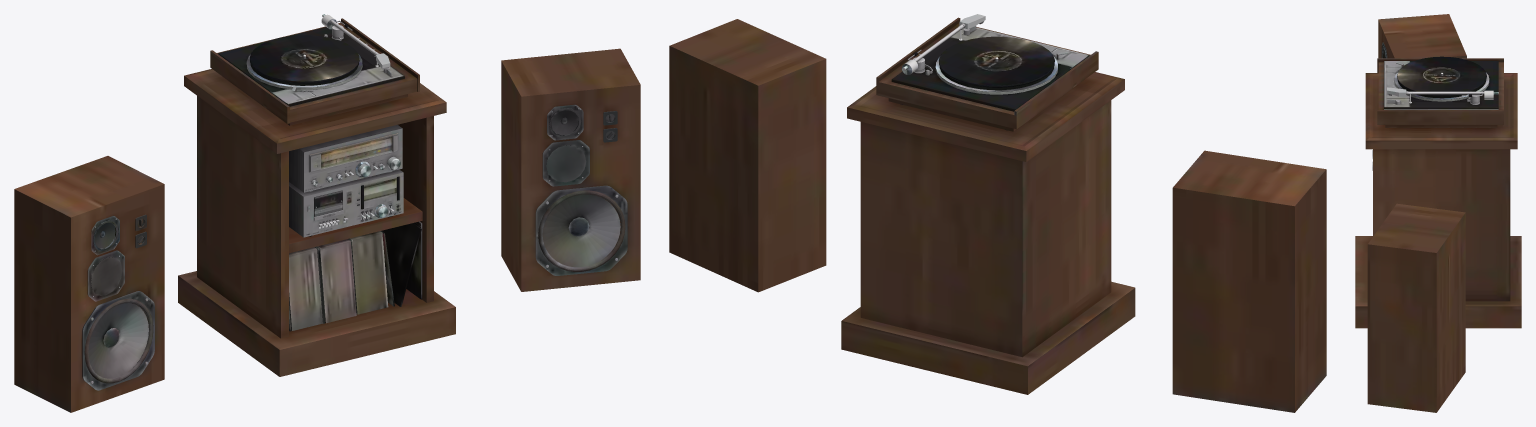
The model's file is origen-vinyl-cabinet-v1.glb.
3 renders of one model, left to right at view 1: azimuth 30°, elevation 25°; view 2: azimuth 150°, elevation 25°; view 3: azimuth 270°, elevation 25°, orthographic. The views are drawn at different scales.
Parts seen in each view (by area): view 1: Stereo SM; view 2: Stereo SM; view 3: Stereo SM.
Part boxes in pixels (<box>): Stereo SM: <box>14,14,640,412</box>; Stereo SM: <box>669,14,1326,412</box>; Stereo SM: <box>1355,14,1521,412</box>.
Bounding box in the file's own units: 355 × 152 × 104.
Materials: 1 (1 with a texture image).
